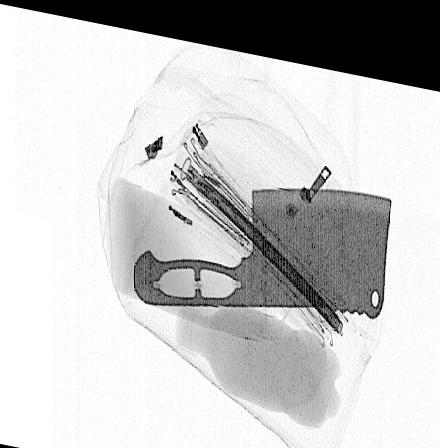Knife: (130, 173, 391, 305)
